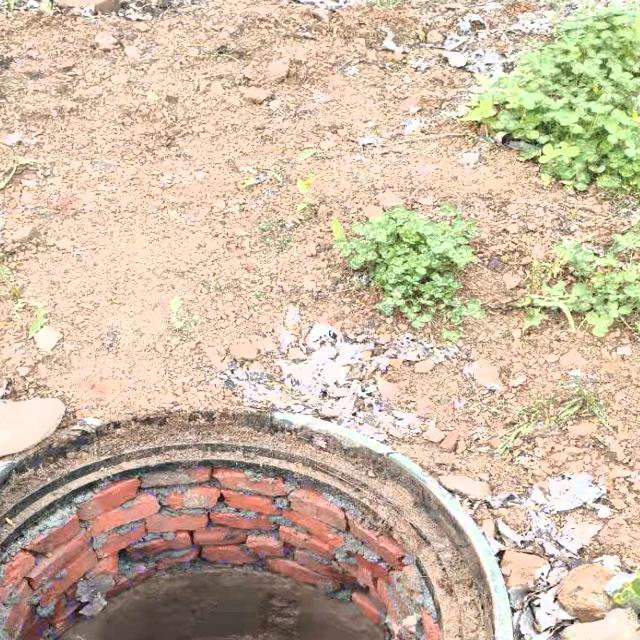lose: (0, 406, 509, 640)
